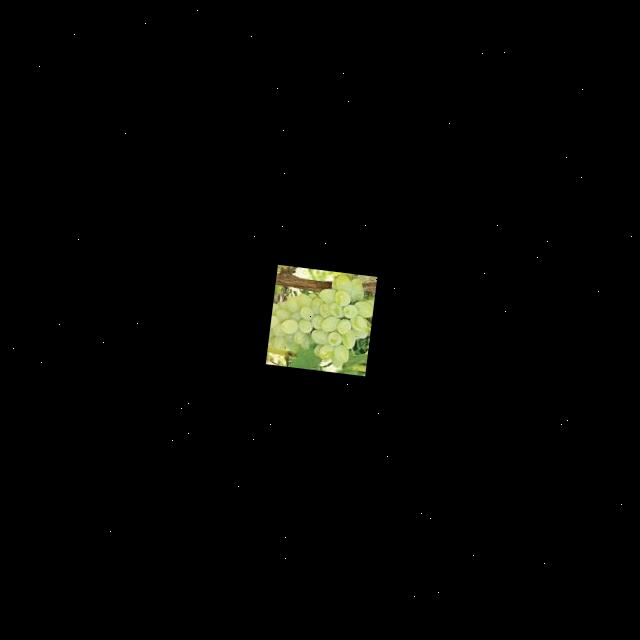grape: (266, 264, 376, 374)
